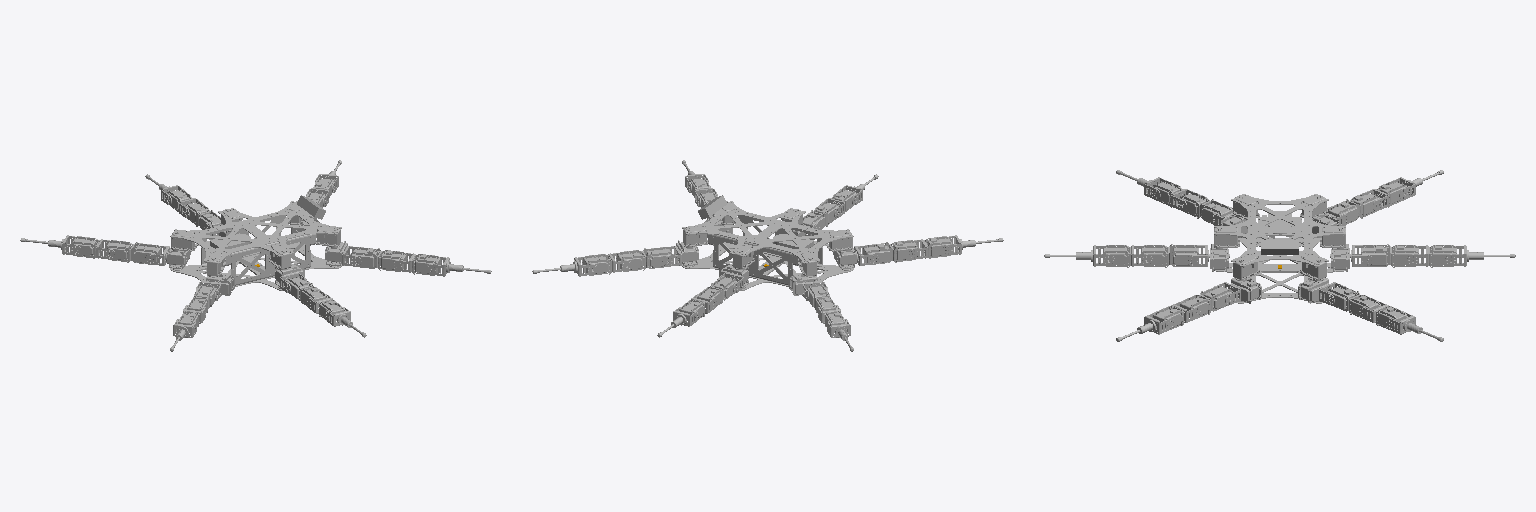
--- What the picture shows (computed from the rendered views, not written in the file) ---
3 views of the same robot in one strip: view 1: azimuth 30°, elevation 25°; view 2: azimuth 150°, elevation 25°; view 3: azimuth 270°, elevation 25° (orthographic).
Model weaver_new with 33 links and 32 joints (30 revolute, 2 fixed), rooted at base_link, posed every joint at zero.
Visible links, largest first — view 1: base_link, AR_femur, CL_femur, AR_tibia, CL_tibia, BR_femur, BL_femur; view 2: base_link, AL_femur, CR_femur, AL_tibia, CR_tibia, BL_femur, BR_femur; view 3: base_link, BL_femur, BR_femur, AL_femur, AR_femur, CR_femur, CL_femur, BL_tibia, BR_tibia, AL_tibia, AR_tibia, CL_tibia (+2 smaller).
Boxes of the visible links, box(x1,y1,x2,y2) form: base_link: box(170, 201, 341, 296); AR_femur: box(351, 247, 406, 271); CL_femur: box(105, 240, 160, 264); AR_tibia: box(392, 253, 440, 275); CL_tibia: box(71, 236, 114, 258); BR_femur: box(286, 276, 326, 309); BL_femur: box(186, 201, 220, 233); base_link: box(682, 201, 853, 296); AL_femur: box(617, 247, 672, 271); CR_femur: box(863, 240, 918, 264); AL_tibia: box(583, 253, 631, 275); CR_tibia: box(909, 236, 952, 258); BL_femur: box(697, 276, 736, 309); BR_femur: box(803, 201, 838, 233); base_link: box(1214, 194, 1345, 303); BL_femur: box(1361, 244, 1418, 267); BR_femur: box(1141, 244, 1198, 267); AL_femur: box(1327, 285, 1379, 318); AR_femur: box(1180, 285, 1231, 318); CR_femur: box(1181, 192, 1232, 223); CL_femur: box(1327, 192, 1379, 223); BL_tibia: box(1407, 245, 1456, 267); BR_tibia: box(1103, 245, 1152, 267); AL_tibia: box(1359, 301, 1406, 329); AR_tibia: box(1153, 301, 1200, 329); CL_tibia: box(1367, 180, 1406, 210).
Bounding box of the posed robot: 0.9285 × 1.09 × 0.15 m (x, y, z).
31 mesh visuals loaded from 31 distinct referenced files (31 binary STL).

robot.urdf — weaver_new:
<!-- Major URDF updates by Russell Buchanan August 2018 -->
<robot
  name="weaver_new">
  <link
    name="base_link">

    <inertial>
      <origin
        xyz="-0.00759148705427965 -6.561613834901E-05 0.06007694"
        rpy="0 0 0" />
      <mass
        value="1.24298717716044" />
      <inertia
        ixx="0.00898901463392721"
        ixy="7.80702196899809E-06"
        ixz="-0.00017493471498136"
        iyy="0.0162211037480001"
        iyz="-5.65946217649229E-07"
        izz="0.0216779813544911" />
    </inertial>

    <visual>
      <origin
        xyz="0 0 0.098"
        rpy="0 0 0" />
      <geometry>
        <mesh filename="base_link.STL" />
      </geometry>
      <material
        name="">
        <color
          rgba="0.752941176470588 0.752941176470588 0.752941176470588 1" />
      </material>
    </visual>

    <collision>
      <origin
        xyz="0 0 0.098"
        rpy="0 0 0" />
      <geometry>
        <mesh filename="base_link_col.STL" />
      </geometry>
    </collision>

  </link>
  
  <link
    name="AL_coxa">
    <inertial>
      <origin
        xyz="-0.0126327016759244 -0.0262896266838802 -2.94089483135196E-05"
        rpy="0 0 0" />
      <mass
        value="0.108250399243993" />
      <inertia
        ixx="3.85527087290252E-05"
        ixy="1.38474767894281E-06"
        ixz="3.95361976343372E-07"
        iyy="4.75576540653116E-05"
        iyz="5.66983924874739E-09"
        izz="5.27292465039966E-05" />
    </inertial>
    <visual>
      <origin
        xyz="0 0 0"
        rpy="0 0 0" />
      <geometry>
        <mesh filename="AL_coxa.STL" />
      </geometry>
      <material
        name="">
        <color
          rgba="0.752941176470588 0.752941176470588 0.752941176470588 1" />
      </material>
    </visual>
    <collision>
      <origin
        xyz="0 0 0"
        rpy="0 0 0" />
      <geometry>
        <mesh filename="AL_coxa_col.STL" />
      </geometry>
    </collision>
  </link>
  <joint
    name="AL_coxa_joint"
    type="revolute">
    <origin
      xyz="0.175000000000008 0.0899999999999982 0.0588"
      rpy="1.5707963267949 0 2.35619449019235" />
    <parent
      link="base_link" />
    <child
      link="AL_coxa" />
    <axis
      xyz="0 1 0" />
    <limit
      lower="-2"
      upper="2"
      effort="5"
      velocity="3.14159265359" />
  </joint>
  <link
    name="AL_coxat">
    <inertial>
      <origin
        xyz="0.00322456842068006 -0.042648725408693 1.84191836782865E-09"
        rpy="0 0 0" />
      <mass
        value="0.047339056341398" />
      <inertia
        ixx="1.74881813811441E-05"
        ixy="-2.95393241324098E-06"
        ixz="-2.81412896472616E-13"
        iyy="2.26979799760414E-05"
        iyz="5.17638655669823E-12"
        izz="3.33964012828006E-05" />
    </inertial>
    <visual>
      <origin
        xyz="0 0 0"
        rpy="0 0 0" />
      <geometry>
        <mesh filename="AL_coxat.STL" />
      </geometry>
      <material
        name="">
        <color
          rgba="0.752941176470588 0.752941176470588 0.752941176470588 1" />
      </material>
    </visual>
    <collision>
      <origin
        xyz="0 0 0"
        rpy="0 0 0" />
      <geometry>
        <mesh
          filename="AL_coxat_col.STL" />
      </geometry>
    </collision>
  </link>
  <joint
    name="AL_coxat_joint"
    type="revolute">
    <origin
      xyz="0 -0.0272999999999766 0"
      rpy="-1.5707963267949 9.99200722162641E-16 3.14159265358979" />
    <parent
      link="AL_coxa" />
    <child
      link="AL_coxat" />
    <axis
      xyz="0 -1 0" />
    <limit
      lower="-2"
      upper="2"
      effort="5"
      velocity="3.14159265359" />
  </joint>
  <link
    name="AL_femur">
    <inertial>
      <origin
        xyz="1.94931050229163E-06 -0.0502731422516415 -4.48898264527459E-05"
        rpy="0 0 0" />
      <mass
        value="0.161017193223397" />
      <inertia
        ixx="0.0002859947309078"
        ixy="4.72799271490016E-08"
        ixz="-2.44529621982891E-09"
        iyy="3.95520604139226E-05"
        iyz="1.19194994154251E-07"
        izz="0.000273544719570858" />
    </inertial>
    <visual>
      <origin
        xyz="0 0 0"
        rpy="0 0 0" />
      <geometry>
        <mesh filename="AL_femur.STL" />
      </geometry>
      <material
        name="">
        <color
          rgba="0.752941176470588 0.752941176470588 0.752941176470588 1" />
      </material>
    </visual>
    <collision>
      <origin
        xyz="0 0 0"
        rpy="0 0 0" />
      <geometry>
        <mesh
          filename="AL_femur_col.STL" />
      </geometry>
    </collision>
  </link>
  <joint
    name="AL_femur_joint"
    type="revolute">
    <origin
      xyz="0 -0.0619999999999947 0"
      rpy="0 1.5707963267949 0" />
    <parent
      link="AL_coxat" />
    <child
      link="AL_femur" />
    <axis
      xyz="0 0 1" />
    <limit
      lower="-2"
      upper="2"
      effort="5"
      velocity="3.14159265359" />
  </joint>
  <link
    name="AL_tibia">
    <inertial>
      <origin
        xyz="3.17882988839224E-05 0.0555617322770338 0.0024498946635602"
        rpy="0 0 0" />
      <mass
        value="0.0971761832774268" />
      <inertia
        ixx="0.000121187030444208"
        ixy="-4.31674791982839E-08"
        ixz="-5.07976803844401E-09"
        iyy="2.89704323167637E-05"
        iyz="-5.8763093230428E-06"
        izz="0.000107560337788206" />
    </inertial>
    <visual>
      <origin
        xyz="0 0 0"
        rpy="0 0 0" />
      <geometry>
        <mesh filename="AL_tibia.STL" />
      </geometry>
      <material
        name="">
        <color
          rgba="0.752941176470588 0.752941176470588 0.752941176470588 1" />
      </material>
    </visual>
    <collision>
      <origin
        xyz="0 0 0"
        rpy="0 0 0" />
      <geometry>
        <mesh
          filename="AL_tibia_col.STL" />
      </geometry>
    </collision>
  </link>
  <joint
    name="AL_tibia_joint"
    type="revolute">
    <origin
      xyz="0 -0.1065 0"
      rpy="-0.0193646475888996 1.48721407503726E-08 3.14159265330176" />
    <parent
      link="AL_femur" />
    <child
      link="AL_tibia" />
    <axis
      xyz="0 -0.0193634373547593 0.999812511070855" />
    <limit
      lower="-2"
      upper="2"
      effort="5"
      velocity="3.14159265359" />
  </joint>
  <link
    name="AL_tarsus">
    <inertial>
      <origin
        xyz="0.035640461688772 -7.22386515883411E-09 0.00321380889583989"
        rpy="0 0 0" />
      <mass
        value="0.0427912868695712" />
      <inertia
        ixx="1.2923299433486E-05"
        ixy="-3.44018556589819E-11"
        ixz="-4.9013553689971E-06"
        iyy="7.84978021986766E-05"
        iyz="1.22229395370361E-12"
        izz="6.93507036251619E-05" />
    </inertial>
    <visual>
      <origin
        xyz="0 0 0"
        rpy="0 0 0" />
      <geometry>
        <mesh filename="AL_tarsus.STL" />
      </geometry>
      <material
        name="">
        <color
          rgba="0.752941176470588 0.752941176470588 0.752941176470588 1" />
      </material>
    </visual>
    <collision>
      <origin
        xyz="0 0 0"
        rpy="0 0 0" />
      <geometry>
        <mesh
          filename="AL_tarsus_col.STL" />
      </geometry>
      <contact>
        <friction_anchor/>
        <stiffness value="30000.0"/>
        <damping value="1000.0"/>
        <spinning_friction value=".3"/>
        <lateral_friction value="1"/>
      </contact>
      <surface>
        <friction>
          <ode>
            <mu1>0.05</mu1>
            <mu2>0.05</mu2>
            <maxContacts>1</maxContacts>
          </ode>
        </friction>
      </surface>
    </collision>
  </link>
  <joint
    name="AL_tarsus_joint"
    type="revolute">
    <origin
      xyz="0 0.0879835009742352 0.00170398248721886"
      rpy="-1.48777190426124E-08 -0.0193646475888956 1.57079632708298" />
    <parent
      link="AL_tibia" />
    <child
      link="AL_tarsus" />
    <axis
      xyz="0 0 1" />
    <limit
      lower="-2"
      upper="2"
      effort="5"
      velocity="3.14159265359" />
  </joint>
  <link
    name="BL_coxa">
    <inertial>
      <origin
        xyz="-0.0126327017578083 -0.0262896266710039 -2.94089356557559E-05"
        rpy="0 0 0" />
      <mass
        value="0.108250398399237" />
      <inertia
        ixx="3.85527083728985E-05"
        ixy="1.3847476958506E-06"
        ixz="3.9536199208153E-07"
        iyy="4.75576536497135E-05"
        iyz="5.66976143339862E-09"
        izz="5.27292463013248E-05" />
    </inertial>
    <visual>
      <origin
        xyz="0 0 0"
        rpy="0 0 0" />
      <geometry>
        <mesh filename="BL_coxa.STL" />
      </geometry>
      <material
        name="">
        <color
          rgba="0.752941176470588 0.752941176470588 0.752941176470588 1" />
      </material>
    </visual>
    <collision>
      <origin
        xyz="0 0 0"
        rpy="0 0 0" />
      <geometry>
        <mesh filename="BL_coxa_col.STL" />
      </geometry>
    </collision>
  </link>
  <joint
    name="BL_coxa_joint"
    type="revolute">
    <origin
      xyz="0 0.140000000000005 0.0588"
      rpy="1.5707963267949 1.43144350060658E-31 3.14159265358979" />
    <parent
      link="base_link" />
    <child
      link="BL_coxa" />
    <axis
      xyz="0 1 0" />
    <limit
      lower="-2"
      upper="2"
      effort="5"
      velocity="3.14159265359" />
  </joint>
  <link
    name="BL_coxat">
    <inertial>
      <origin
        xyz="0.00322456843940139 -0.0199487254260735 1.84192165686436E-09"
        rpy="0 0 0" />
      <mass
        value="0.0473390563493884" />
      <inertia
        ixx="1.74881813551982E-05"
        ixy="-2.95393242832494E-06"
        ixz="-2.81439712590928E-13"
        iyy="2.26979800127984E-05"
        iyz="5.17636265748529E-12"
        izz="3.33964012935379E-05" />
    </inertial>
    <visual>
      <origin
        xyz="0 0 0"
        rpy="0 0 0" />
      <geometry>
        <mesh filename="BL_coxat.STL" />
      </geometry>
      <material
        name="">
        <color
          rgba="0.752941176470588 0.752941176470588 0.752941176470588 1" />
      </material>
    </visual>
    <collision>
      <origin
        xyz="0 0 0"
        rpy="0 0 0" />
      <geometry>
        <mesh
          filename="BL_coxat_col.STL" />
      </geometry>
    </collision>
  </link>
  <joint
    name="BL_coxat_joint"
    type="revolute">
    <origin
      xyz="0 -0.0272999999999767 0.0226999999999946"
      rpy="-1.5707963267949 -8.26948102009006E-16 -3.14159265358979" />
    <parent
      link="BL_coxa" />
    <child
      link="BL_coxat" />
    <axis
      xyz="0 -1 0" />
    <limit
      lower="-2"
      upper="2"
      effort="5"
      velocity="3.14159265359" />
  </joint>
  <link
    name="BL_femur">
    <inertial>
      <origin
        xyz="1.94930615164679E-06 -0.0502731423758347 -4.48897852852343E-05"
        rpy="0 0 0" />
      <mass
        value="0.16101719842294" />
      <inertia
        ixx="0.000285994732084457"
        ixy="4.72799663358013E-08"
        ixz="-2.44529702587561E-09"
        iyy="3.9552062637028E-05"
        iyz="1.19195252865889E-07"
        izz="0.000273544718966196" />
    </inertial>
    <visual>
      <origin
        xyz="0 0 0"
        rpy="0 0 0" />
      <geometry>
        <mesh filename="BL_femur.STL" />
      </geometry>
      <material
        name="">
        <color
          rgba="0.752941176470588 0.752941176470588 0.752941176470588 1" />
      </material>
    </visual>
    <collision>
      <origin
        xyz="0 0 0"
        rpy="0 0 0" />
      <geometry>
        <mesh
          filename="BL_femur_col.STL" />
      </geometry>
    </collision>
  </link>
  <joint
    name="BL_femur_joint"
    type="revolute">
    <origin
      xyz="0 -0.0393 0"
      rpy="0 1.5707963267949 0" />
    <parent
      link="BL_coxat" />
    <child
      link="BL_femur" />
    <axis
      xyz="0 0 1" />
    <limit
      lower="-2"
      upper="2"
      effort="5"
      velocity="3.14159265359" />
  </joint>
  <link
    name="BL_tibia">
    <inertial>
      <origin
        xyz="3.17883837628596E-05 0.055598753104094 0.00137356915021568"
        rpy="0 0 0" />
      <mass
        value="0.0971761860003987" />
      <inertia
        ixx="0.000121187031212763"
        ixy="-4.32578869698677E-08"
        ixz="-4.24273966447233E-09"
        iyy="2.92274287178076E-05"
        iyz="-7.39338834503258E-06"
        izz="0.00010730334234406" />
    </inertial>
    <visual>
      <origin
        xyz="0 0 0"
        rpy="0 0 0" />
      <geometry>
        <mesh filename="BL_tibia.STL" />
      </geometry>
      <material
        name="">
        <color
          rgba="0.752941176470588 0.752941176470588 0.752941176470588 1" />
      </material>
    </visual>
    <collision>
      <origin
        xyz="0 0 0"
        rpy="0 0 0" />
      <geometry>
        <mesh
          filename="BL_tibia_col.STL" />
      </geometry>
    </collision>
  </link>
  <joint
    name="BL_tibia_joint"
    type="revolute">
    <origin
      xyz="0 -0.1065 0"
      rpy="1.43185159909298E-15 0 3.14159265358979" />
    <parent
      link="BL_femur" />
    <child
      link="BL_tibia" />
    <axis
      xyz="0 0 1" />
    <limit
      lower="-2"
      upper="2"
      effort="5"
      velocity="3.14159265359" />
  </joint>
  <link
    name="BL_tarsus">
    <inertial>
      <origin
        xyz="0.0356404383354079 -7.59224401403191E-09 0.00321380983274337"
        rpy="0 0 0" />
      <mass
        value="0.0427912775199976" />
      <inertia
        ixx="1.29232990947271E-05"
        ixy="-3.61090772675561E-11"
        ixz="-4.9013511739472E-06"
        iyy="7.84976947348117E-05"
        iyz="1.27343670949195E-12"
        izz="6.93505962846741E-05" />
    </inertial>
    <visual>
      <origin
        xyz="0 0 0"
        rpy="0 0 0" />
      <geometry>
        <mesh filename="BL_tarsus.STL" />
      </geometry>
      <material
        name="">
        <color
          rgba="0.752941176470588 0.752941176470588 0.752941176470588 1" />
      </material>
    </visual>
    <collision>
      <origin
        xyz="0 0 0"
        rpy="0 0 0" />
      <geometry>
        <mesh
          filename="BL_tarsus_col.STL" />
      </geometry>
      <contact>
        <friction_anchor/>
        <stiffness value="30000.0"/>
        <damping value="1000.0"/>
        <spinning_friction value=".3"/>
        <lateral_friction value="1"/>
      </contact>
      <surface>
        <friction>
          <ode>
            <mu1>0.05</mu1>
            <mu2>0.05</mu2>
            <maxContacts>1</maxContacts>
          </ode>
        </friction>
      </surface>
    </collision>
  </link>
  <joint
    name="BL_tarsus_joint"
    type="revolute">
    <origin
      xyz="0 0.088 0"
      rpy="5.05319527541181E-16 2.28167636694143E-15 1.5707963267949" />
    <parent
      link="BL_tibia" />
    <child
      link="BL_tarsus" />
    <axis
      xyz="0 0 1" />
    <limit
      lower="-2"
      upper="2"
      effort="5"
      velocity="3.14159265359" />
  </joint>
  <link
    name="CL_coxa">
    <inertial>
      <origin
        xyz="-0.012632701668827 -0.0262896266841513 -2.94089624845451E-05"
        rpy="0 0 0" />
      <mass
        value="0.108250399319588" />
      <inertia
        ixx="3.85527087633549E-05"
        ixy="1.38474767831933E-06"
        ixz="3.95361957972071E-07"
        iyy="4.75576541011806E-05"
        iyz="5.66983973820856E-09"
        izz="5.27292465083536E-05" />
    </inertial>
    <visual>
      <origin
        xyz="0 0 0"
        rpy="0 0 0" />
      <geometry>
        <mesh filename="CL_coxa.STL" />
      </geometry>
      <material
        name="">
        <color
          rgba="0.752941176470588 0.752941176470588 0.752941176470588 1" />
      </material>
    </visual>
    <collision>
      <origin
        xyz="0 0 0"
        rpy="0 0 0" />
      <geometry>
        <mesh filename="CL_coxa_col.STL" />
      </geometry>
    </collision>
  </link>
  <joint
    name="CL_coxa_joint"
    type="revolute">
    <origin
      xyz="-0.174999999999998 0.0900000000000082 0.0588"
      rpy="1.5707963267949 0 -2.35619449019234" />
    <parent
      link="base_link" />
    <child
      link="CL_coxa" />
    <axis
      xyz="0 1 0" />
    <limit
      lower="-2"
      upper="2"
      effort="5"
      velocity="3.14159265359" />
  </joint>
  <link
    name="CL_coxat">
    <inertial>
      <origin
        xyz="0.00322456842092589 -0.042648725408981 1.84192464058874E-09"
        rpy="0 0 0" />
      <mass
        value="0.0473390563414069" />
      <inertia
        ixx="1.74881813811838E-05"
        ixy="-2.95393241336154E-06"
        ixz="-2.81390978510956E-13"
        iyy="2.26979799762259E-05"
        iyz="5.17635965133413E-12"
        izz="3.33964012830189E-05" />
    </inertial>
    <visual>
      <origin
        xyz="0 0 0"
        rpy="0 0 0" />
      <geometry>
        <mesh filename="CL_coxat.STL" />
      </geometry>
      <material
        name="">
        <color
          rgba="0.752941176470588 0.752941176470588 0.752941176470588 1" />
      </material>
    </visual>
    <collision>
      <origin
        xyz="0 0 0"
        rpy="0 0 0" />
      <geometry>
        <mesh
          filename="CL_coxat_col.STL" />
      </geometry>
    </collision>
  </link>
  <joint
    name="CL_coxat_joint"
    type="revolute">
    <origin
      xyz="0 -0.0272999999999766 0"
      rpy="-1.5707963267949 0 3.14159265358979" />
    <parent
      link="CL_coxa" />
    <child
      link="CL_coxat" />
    <axis
      xyz="0 -1 0" />
    <limit
      lower="-2"
      upper="2"
      effort="5"
      velocity="3.14159265359" />
  </joint>
  <link
    name="CL_femur">
    <inertial>
      <origin
        xyz="1.94931076638594E-06 -0.0502731422740177 -4.48898169302936E-05"
        rpy="0 0 0" />
      <mass
        value="0.161017193147997" />
      <inertia
        ixx="0.000285994730707631"
        ixy="4.72799288225188E-08"
        ixz="-2.44529729278806E-09"
        iyy="3.95520603797325E-05"
        iyz="1.19195070233865E-07"
        izz="0.000273544719402247" />
    </inertial>
    <visual>
      <origin
        xyz="0 0 0"
        rpy="0 0 0" />
      <geometry>
        <mesh filename="CL_femur.STL" />
      </geometry>
      <material
        name="">
        <color
          rgba="0.752941176470588 0.752941176470588 0.752941176470588 1" />
      </material>
    </visual>
    <collision>
      <origin
        xyz="0 0 0"
        rpy="0 0 0" />
      <geometry>
        <mesh
          filename="CL_femur_col.STL" />
      </geometry>
    </collision>
  </link>
  <joint
    name="CL_femur_joint"
    type="revolute">
    <origin
      xyz="0 -0.0619999999999946 0"
      rpy="0 1.5707963267949 0" />
    <parent
      link="CL_coxat" />
    <child
      link="CL_femur" />
    <axis
      xyz="0 0 1" />
    <limit
      lower="-2"
      upper="2"
      effort="5"
      velocity="3.14159265359" />
  </joint>
  <link
    name="CL_tibia">
    <inertial>
      <origin
        xyz="3.17883353263271E-05 0.00137356921260609 -0.0555987534494042"
        rpy="0 0 0" />
      <mass
        value="0.097176183277049" />
      <inertia
        ixx="0.000121187030442943"
        ixy="-4.24274050754199E-09"
        ixz="4.32578310134829E-08"
        iyy="0.00010730334264716"
        iyz="7.39338815943135E-06"
        izz="2.92274274562315E-05" />
    </inertial>
    <visual>
      <origin
        xyz="0 0 0"
        rpy="0 0 0" />
      <geometry>
        <mesh filename="CL_tibia.STL" />
      </geometry>
      <material
        name="">
        <color
          rgba="0.752941176470588 0.752941176470588 0.752941176470588 1" />
      </material>
    </visual>
    <collision>
      <origin
        xyz="0 0 0"
        rpy="0 0 0" />
      <geometry>
        <mesh
          filename="CL_tibia_col.STL" />
      </geometry>
    </collision>
  </link>
  <joint
    name="CL_tibia_joint"
    type="revolute">
    <origin
      xyz="0 -0.1065 0"
      rpy="1.5707963267949 0 3.14159265358979" />
    <parent
      link="CL_femur" />
    <child
      link="CL_tibia" />
    <axis
      xyz="0 1 0" />
    <limit
      lower="-2"
      upper="2"
      effort="5"
      velocity="3.14159265359" />
  </joint>
  <link
    name="CL_tarsus">
    <inertial>
      <origin
        xyz="0.0356404616886621 -7.2238463821872E-09 0.00321380889589828"
        rpy="0 0 0" />
      <mass
        value="0.0427912868696943" />
      <inertia
        ixx="1.292329943354E-05"
        ixy="-3.44018840496861E-11"
        ixz="-4.90135536909265E-06"
        iyy="7.84978021989049E-05"
        iyz="1.22231028705787E-12"
        izz="6.93507036253422E-05" />
    </inertial>
    <visual>
      <origin
        xyz="0 0 0"
        rpy="0 0 0" />
      <geometry>
        <mesh filename="CL_tarsus.STL" />
      </geometry>
      <material
        name="">
        <color
          rgba="0.752941176470588 0.752941176470588 0.752941176470588 1" />
      </material>
    </visual>
    <collision>
      <origin
        xyz="0 0 0"
        rpy="0 0 0" />
      <geometry>
        <mesh
          filename="CL_tarsus_col.STL" />
      </geometry>
      <contact>
        <friction_anchor/>
        <stiffness value="30000.0"/>
        <damping value="1000.0"/>
        <spinning_friction value=".3"/>
        <lateral_friction value="1"/>
      </contact>
      <surface>
        <friction>
          <ode>
            <mu1>0.05</mu1>
            <mu2>0.05</mu2>
            <maxContacts>1</maxContacts>
          </ode>
        </friction>
      </surface>
    </collision>
  </link>
  <joint
    name="CL_tarsus_joint"
    type="revolute">
    <origin
      xyz="0 0 -0.088"
      rpy="1.5707963267949 1.5707963267949 0" />
    <parent
      link="CL_tibia" />
    <child
      link="CL_tarsus" />
    <axis
      xyz="0 0 -1" />
    <limit
      lower="-2"
      upper="2"
      effort="5"
      velocity="3.14159265359" />
  </joint>
  <link
    name="CR_coxa">
    <inertial>
      <origin
        xyz="-0.0126327016688212 0.026283827670928 -2.94073512716597E-05"
        rpy="0 0 0" />
      <mass
        value="0.108250399319648" />
      <inertia
        ixx="3.85514366187558E-05"
        ixy="-1.38654335928304E-06"
        ixz="3.95364161212748E-07"
        iyy="4.7557654111446E-05"
        iyz="-7.81555794110925E-10"
        izz="5.2727974353502E-05" />
    </inertial>
    <visual>
      <origin
        xyz="0 0 0"
        rpy="0 0 0" />
      <geometry>
        <mesh filename="CR_coxa.STL" />
      </geometry>
      <material
        name="">
        <color
          rgba="0.752941176470588 0.752941176470588 0.752941176470588 1" />
      </material>
    </visual>
    <collision>
      <origin
        xyz="0 0 0"
        rpy="0 0 0" />
      <geometry>
        <mesh filename="CR_coxa_col.STL" />
      </geometry>
    </collision>
  </link>
  <joint
    name="CR_coxa_joint"
    type="revolute">
    <origin
      xyz="-0.175 -0.0899999999999999 0.0588"
      rpy="-1.5707963267949 0 2.35619449019234" />
    <parent
      link="base_link" />
    <child
      link="CR_coxa" />
    <axis
      xyz="0 -1 0" />
    <limit
      lower="-2"
      upper="2"
      effort="5"
      velocity="3.14159265359" />
  </joint>
  <link
    name="CR_coxat">
    <inertial>
      <origin
        xyz="0.00322456842098827 -0.0426487254089663 1.84189551111213E-09"
        rpy="0 0 0" />
      <mass
        value="0.04733905634204" />
      <inertia
        ixx="1.74881813814019E-05"
        ixy="-2.9539324135307E-06"
        ixz="-2.81448126330313E-13"
        iyy="2.26979799763797E-05"
        iyz="5.1764222413313E-12"
        izz="3.33964012833879E-05" />
    </inertial>
    <visual>
      <origin
        xyz="0 0 0"
        rpy="0 0 0" />
      <geometry>
        <mesh filename="CR_coxat.STL" />
      </geometry>
      <material
        name="">
        <color
          rgba="0.752941176470588 0.752941176470588 0.752941176470588 1" />
      </material>
    </visual>
    <collision>
      <origin
        xyz="0 0 0"
        rpy="0 0 0" />
      <geometry>
        <mesh
          filename="CR_coxat_col.STL" />
      </geometry>
    </collision>
  </link>
  <joint
    name="CR_coxat_joint"
    type="revolute">
    <origin
      xyz="0 0.0273 0"
      rpy="-1.5707963267949 -1.83186799063151E-15 0" />
    <parent
      link="CR_coxa" />
    <child
      link="CR_coxat" />
    <axis
      xyz="0 -1 0" />
    <limit
      lower="-2"
      upper="2"
      effort="5"
      velocity="3.14159265359" />
  </joint>
  <link
    name="CR_femur">
    <inertial>
      <origin
        xyz="1.94931050229163E-06 4.48898264525655E-05 -0.0502731422516415"
        rpy="0 0 0" />
      <mass
        value="0.161017193223397" />
      <inertia
        ixx="0.000285994730907801"
        ixy="2.44529621981792E-09"
        ixz="4.72799271490913E-08"
        iyy="0.000273544719570859"
        iyz="-1.19194994153884E-07"
        izz="3.95520604139226E-05" />
    </inertial>
    <visual>
      <origin
        xyz="0 0 0"
        rpy="0 0 0" />
      <geometry>
        <mesh filename="CR_femur.STL" />
      </geometry>
      <material
        name="">
        <color
          rgba="0.752941176470588 0.752941176470588 0.752941176470588 1" />
      </material>
    </visual>
    <collision>
      <origin
        xyz="0 0 0"
        rpy="0 0 0" />
      <geometry>
        <mesh
          filename="CR_femur_col.STL" />
      </geometry>
    </collision>
  </link>
  <joint
    name="CR_femur_joint"
    type="revolute">
    <origin
      xyz="0 -0.062 0"
      rpy="1.5707963267949 1.5707963267949 3.14159265359" />
    <parent
      link="CR_coxat" />
    <child
      link="CR_femur" />
    <axis
      xyz="0 -1 0" />
    <limit
      lower="-2"
      upper="2"
      effort="5"
      velocity="3.14159265359" />
  </joint>
  <link
    name="CR_tibia">
    <inertial>
      <origin
        xyz="3.17883353189857E-05 -0.0555987534496207 -0.00137356921251791"
        rpy="0 0 0" />
      <mass
        value="0.0971761832766621" />
      <inertia
        ixx="0.00012118703044161"
        ixy="4.3257830973829E-08"
        ixz="4.242740523455E-09"
        iyy="2.92274274560395E-05"
        iyz="-7.3933881589663E-06"
        izz="0.000107303342646014" />
    </inertial>
    <visual>
      <origin
        xyz="0 0 0"
        rpy="0 0 0" />
      <geometry>
        <mesh filename="CR_tibia.STL" />
      </geometry>
      <material
        name="">
        <color
          rgba="0.752941176470588 0.752941176470588 0.752941176470588 1" />
      </material>
    </visual>
    <collision>
      <origin
        xyz="0 0 0"
        rpy="0 0 0" />
      <geometry>
        <mesh
          filename="CR_tibia_col.STL" />
      </geometry>
    </collision>
  </link>
  <joint
    name="CR_tibia_joint"
    type="revolute">
    <origin
      xyz="0 0 -0.1065"
      rpy="1.5707963267949 0 3.14159265358979" />
    <parent
      link="CR_femur" />
    <child
      link="CR_tibia" />
    <axis
      xyz="0 0 -1" />
    <limit
      lower="-2"
      upper="2"
      effort="5"
      velocity="3.14159265359" />
  </joint>
  <link
    name="CR_tarsus">
    <inertial>
      <origin
        xyz="0.0356404502699696 -6.47393358366166E-09 0.00321380880663966"
        rpy="0 0 0" />
      <mass
        value="0.0427912820369785" />
      <inertia
        ixx="1.29232990839249E-05"
        ixy="-3.09570402052015E-11"
        ixz="-4.90135587688033E-06"
        iyy="7.84977530070108E-05"
        iyz="1.11916066474112E-12"
        izz="6.9350654358845E-05" />
    </inertial>
    <visual>
      <origin
        xyz="0 0 0"
        rpy="0 0 0" />
      <geometry>
        <mesh filename="CR_tarsus.STL" />
      </geometry>
      <material
        name="">
        <color
          rgba="0.752941176470588 0.752941176470588 0.752941176470588 1" />
      </material>
    </visual>
    <collision>
      <origin
        xyz="0 0 0"
        rpy="0 0 0" />
      <geometry>
        <mesh
          filename="CR_tarsus_col.STL" />
      </geometry>
      <contact>
        <friction_anchor/>
        <stiffness value="30000.0"/>
        <damping value="1000.0"/>
        <spinning_friction value=".3"/>
        <lateral_friction value="1"/>
      </contact>
      <surface>
        <friction>
          <ode>
            <mu1>0.05</mu1>
            <mu2>0.05</mu2>
            <maxContacts>1</maxContacts>
          </ode>
        </friction>
      </surface>
    </collision>
  </link>
  <joint
    name="CR_tarsus_joint"
    type="revolute">
    <origin
      xyz="0 -0.0879999999999999 0"
      rpy="3.14159265358979 -1.94289029309402E-15 -1.5707963267949" />
    <parent
      link="CR_tibia" />
    <child
      link="CR_tarsus" />
    <axis
      xyz="0 0 1" />
    <limit
      lower="-2"
      upper="2"
      effort="5"
      velocity="3.14159265359" />
  </joint>
  <link
    name="BR_coxa">
    <inertial>
      <origin
        xyz="-0.0126327017578069 0.0262838276668582 -2.9407324436459E-05"
        rpy="0 0 0" />
      <mass
        value="0.108250398399237" />
      <inertia
        ixx="3.85514362302588E-05"
        ixy="-1.38654336124219E-06"
        ixz="3.95364195331059E-07"
        iyy="4.75576536599566E-05"
        iyz="-7.81628237663384E-10"
        izz="5.27279741484064E-05" />
    </inertial>
    <visual>
      <origin
        xyz="0 0 0"
        rpy="0 0 0" />
      <geometry>
        <mesh filename="BR_coxa.STL" />
      </geometry>
      <material
        name="">
        <color
          rgba="0.752941176470588 0.752941176470588 0.752941176470588 1" />
      </material>
    </visual>
    <collision>
      <origin
        xyz="0 0 0"
        rpy="0 0 0" />
      <geometry>
        <mesh filename="BR_coxa_col.STL" />
      </geometry>
    </collision>
  </link>
  <joint
    name="BR_coxa_joint"
    type="revolute">
    <origin
      xyz="0 -0.14 0.0588"
      rpy="-1.5707963267949 -3.74915180455534E-33 3.14159265358979" />
    <parent
      link="base_link" />
    <child
      link="BR_coxa" />
    <axis
      xyz="0 -1 0" />
    <limit
      lower="-2"
      upper="2"
      effort="5"
      velocity="3.14159265359" />
  </joint>
  <link
    name="BR_coxat">
    <inertial>
      <origin
        xyz="0.00322456843926445 -0.0199487254258844 1.84193138519362E-09"
        rpy="0 0 0" />
      <mass
        value="0.0473390563494482" />
      <inertia
        ixx="1.74881813551548E-05"
        ixy="-2.95393242824373E-06"
        ixz="-2.8143185015876E-13"
        iyy="2.26979800127065E-05"
        iyz="5.17635598291648E-12"
        izz="3.33964012934035E-05" />
    </inertial>
    <visual>
      <origin
        xyz="0 0 0"
        rpy="0 0 0" />
      <geometry>
        <mesh filename="BR_coxat.STL" />
      </geometry>
      <material
        name="">
        <color
          rgba="0.752941176470588 0.752941176470588 0.752941176470588 1" />
      </material>
    </visual>
    <collision>
      <origin
        xyz="0 0 0"
        rpy="0 0 0" />
      <geometry>
        <mesh
          filename="BR_coxat_col.STL" />
      </geometry>
    </collision>
  </link>
  <joint
    name="BR_coxat_joint"
    type="revolute">
    <origin
      xyz="0 0.0273 0.0227"
      rpy="-1.5707963267949 -6.12303176911188E-17 3.74915180455534E-33" />
    <parent
      link="BR_coxa" />
    <child
      link="BR_coxat" />
    <axis
      xyz="0 -1 0" />
    <limit
      lower="-2"
      upper="2"
      effort="5"
      velocity="3.14159265359" />
  </joint>
  <link
    name="BR_femur">
    <inertial>
      <origin
        xyz="1.94930641257696E-06 0.0502731423988428 4.4889775435684E-05"
        rpy="0 0 0" />
      <mass
        value="0.161017198344016" />
      <inertia
        ixx="0.000285994731881859"
        ixy="-4.72799679134353E-08"
        ixz="2.44529809753879E-09"
        iyy="3.9552062601809E-05"
        iyz="1.19195330567474E-07"
        izz="0.000273544718796064" />
    </inertial>
    <visual>
      <origin
        xyz="0 0 0"
        rpy="0 0 0" />
      <geometry>
        <mesh filename="BR_femur.STL" />
      </geometry>
      <material
        name="">
        <color
          rgba="0.752941176470588 0.752941176470588 0.752941176470588 1" />
      </material>
    </visual>
    <collision>
      <origin
        xyz="0 0 0"
        rpy="0 0 0" />
      <geometry>
        <mesh
          filename="BR_femur_col.STL" />
      </geometry>
    </collision>
  </link>
  <joint
    name="BR_femur_joint"
    type="revolute">
    <origin
      xyz="0 -0.0393 0"
      rpy="3.14159265358979 1.5707963267949 0" />
    <parent
      link="BR_coxat" />
    <child
      link="BR_femur" />
    <axis
      xyz="0 0 -1" />
    <limit
      lower="-2"
      upper="2"
      effort="5"
      velocity="3.14159265359" />
  </joint>
  <link
    name="BR_tibia">
    <inertial>
      <origin
        xyz="3.17883837551991E-05 -0.055598753103953 -0.00137356915026763"
        rpy="0 0 0" />
      <mass
        value="0.0971761860006536" />
      <inertia
        ixx="0.000121187031213631"
        ixy="4.32578869295509E-08"
        ixz="4.24273968119749E-09"
        iyy="2.92274287179364E-05"
        iyz="-7.3933883453387E-06"
        izz="0.000107303342344804" />
    </inertial>
    <visual>
      <origin
        xyz="0 0 0"
        rpy="0 0 0" />
      <geometry>
        <mesh filename="BR_tibia.STL" />
      </geometry>
      <material
        name="">
        <color
          rgba="0.752941176470588 0.752941176470588 0.752941176470588 1" />
      </material>
    </visual>
    <collision>
      <origin
        xyz="0 0 0"
        rpy="0 0 0" />
      <geometry>
        <mesh
          filename="BR_tibia_col.STL" />
      </geometry>
    </collision>
  </link>
  <joint
    name="BR_tibia_joint"
    type="revolute">
    <origin
      xyz="0 0.1065 0"
      rpy="7.65717784317887E-16 0 3.14159265358979" />
    <parent
      link="BR_femur" />
    <child
      link="BR_tibia" />
    <axis
      xyz="0 0 -1" />
    <limit
      lower="-2"
      upper="2"
      effort="5"
      velocity="3.14159265359" />
  </joint>
  <link
    name="BR_tarsus">
    <inertial>
      <origin
        xyz="0.0356418098307435 -3.76651621558644E-08 0.00321378795866891"
        rpy="0 0 0" />
      <mass
        value="0.0427918103113372" />
      <inertia
        ixx="1.29233106804525E-05"
        ixy="-1.78601081153684E-10"
        ixz="-4.9014538359243E-06"
        iyy="7.85041660169227E-05"
        iyz="5.4092134130153E-12"
        izz="6.93570670528488E-05" />
    </inertial>
    <visual>
      <origin
        xyz="0 0 0"
        rpy="0 0 0" />
      <geometry>
        <mesh filename="BR_tarsus.STL" />
      </geometry>
      <material
        name="">
        <color
          rgba="0.752941176470588 0.752941176470588 0.752941176470588 1" />
      </material>
    </visual>
    <collision>
      <origin
        xyz="0 0 0"
        rpy="0 0 0" />
      <geometry>
        <mesh
          filename="BR_tarsus_col.STL" />
      </geometry>
      <contact>
        <friction_anchor/>
        <stiffness value="30000.0"/>
        <damping value="1000.0"/>
        <spinning_friction value=".3"/>
        <lateral_friction value="1"/>
      </contact>
      <surface>
        <friction>
          <ode>
            <mu1>0.05</mu1>
            <mu2>0.05</mu2>
            <maxContacts>1</maxContacts>
          </ode>
        </friction>
      </surface>
    </collision>
  </link>
  <joint
    name="BR_tarsus_joint"
    type="revolute">
    <origin
      xyz="0 -0.088 0"
      rpy="-3.14159265358979 -8.26948102009006E-16 -1.5707963267949" />
    <parent
      link="BR_tibia" />
    <child
      link="BR_tarsus" />
    <axis
      xyz="0 0 1" />
    <limit
      lower="-2"
      upper="2"
      effort="5"
      velocity="3.14159265359" />
  </joint>
  <link
    name="AR_coxa">
    <inertial>
      <origin
        xyz="-0.0126327016688656 0.0262838276709944 -2.94073512709381E-05"
        rpy="0 0 0" />
      <mass
        value="0.108250399319334" />
      <inertia
        ixx="3.85514366185909E-05"
        ixy="-1.38654335917332E-06"
        ixz="3.9536416121336E-07"
        iyy="4.75576541113712E-05"
        iyz="-7.8155579593374E-10"
        izz="5.27279743532636E-05" />
    </inertial>
    <visual>
      <origin
        xyz="0 0 0"
        rpy="0 0 0" />
      <geometry>
        <mesh filename="AR_coxa.STL" />
      </geometry>
      <material
        name="">
        <color
          rgba="0.752941176470588 0.752941176470588 0.752941176470588 1" />
      </material>
    </visual>
    <collision>
      <origin
        xyz="0 0 0"
        rpy="0 0 0" />
      <geometry>
        <mesh filename="AR_coxa_col.STL" />
      </geometry>
    </collision>
  </link>
  <joint
    name="AR_coxa_joint"
    type="revolute">
    <origin
      xyz="0.175 -0.0900000000000001 0.0588"
      rpy="-1.5707963267949 0 -2.35619449019234" />
    <parent
      link="base_link" />
    <child
      link="AR_coxa" />
    <axis
      xyz="0 -1 0" />
    <limit
      lower="-2"
      upper="2"
      effort="5"
      velocity="3.14159265359" />
  </joint>
  <link
    name="AR_coxat">
    <inertial>
      <origin
        xyz="0.00322456842092667 -0.0426487254088967 1.84192269769845E-09"
        rpy="0 0 0" />
      <mass
        value="0.047339056341662" />
      <inertia
        ixx="1.74881813812544E-05"
        ixy="-2.95393241336118E-06"
        ixz="-2.81391006638428E-13"
        iyy="2.26979799762262E-05"
        iyz="5.17635812842465E-12"
        izz="3.33964012830897E-05" />
    </inertial>
    <visual>
      <origin
        xyz="0 0 0"
        rpy="0 0 0" />
      <geometry>
        <mesh filename="AR_coxat.STL" />
      </geometry>
      <material
        name="">
        <color
          rgba="0.752941176470588 0.752941176470588 0.752941176470588 1" />
      </material>
    </visual>
    <collision>
      <origin
        xyz="0 0 0"
        rpy="0 0 0" />
      <geometry>
        <mesh
          filename="AR_coxat_col.STL" />
      </geometry>
    </collision>
  </link>
  <joint
    name="AR_coxat_joint"
    type="revolute">
    <origin
      xyz="0 0.0273 0"
      rpy="-1.5707963267949 0 0" />
    <parent
      link="AR_coxa" />
    <child
      link="AR_coxat" />
    <axis
      xyz="0 -1 0" />
    <limit
      lower="-2"
      upper="2"
      effort="5"
      velocity="3.14159265359" />
  </joint>
  <link
    name="AR_femur">
    <inertial>
      <origin
        xyz="1.94931076637206E-06 -4.4889816930252E-05 0.0502731422740177"
        rpy="0 0 0" />
      <mass
        value="0.161017193147997" />
      <inertia
        ixx="0.00028599473070763"
        ixy="-2.44529729275451E-09"
        ixz="-4.7279928822461E-08"
        iyy="0.000273544719402246"
        iyz="-1.19195070234166E-07"
        izz="3.95520603797324E-05" />
    </inertial>
    <visual>
      <origin
        xyz="0 0 0"
        rpy="0 0 0" />
      <geometry>
        <mesh filename="AR_femur.STL" />
      </geometry>
      <material
        name="">
        <color
          rgba="0.752941176470588 0.752941176470588 0.752941176470588 1" />
      </material>
    </visual>
    <collision>
      <origin
        xyz="0 0 0"
        rpy="0 0 0" />
      <geometry>
        <mesh
          filename="AR_femur_col.STL" />
      </geometry>
    </collision>
  </link>
  <joint
    name="AR_femur_joint"
    type="revolute">
    <origin
      xyz="0 -0.062 0"
      rpy="1.5707963267949 1.5707963267949 0" />
    <parent
      link="AR_coxat" />
    <child
      link="AR_femur" />
    <axis
      xyz="0 1 0" />
    <limit
      lower="-2"
      upper="2"
      effort="5"
      velocity="3.14159265359" />
  </joint>
  <link
    name="AR_tibia">
    <inertial>
      <origin
        xyz="3.17883353196241E-05 -0.0555987534492564 -0.00137356921266399"
        rpy="0 0 0" />
      <mass
        value="0.0971761832773038" />
      <inertia
        ixx="0.000121187030443879"
        ixy="4.32578309767166E-08"
        ixz="4.24274052207579E-09"
        iyy="2.92274274563597E-05"
        iyz="-7.39338815975043E-06"
        izz="0.000107303342647974" />
    </inertial>
    <visual>
      <origin
        xyz="0 0 0"
        rpy="0 0 0" />
      <geometry>
        <mesh filename="AR_tibia.STL" />
      </geometry>
      <material
        name="">
        <color
          rgba="0.752941176470588 0.752941176470588 0.752941176470588 1" />
      </material>
    </visual>
    <collision>
      <origin
        xyz="0 0 0"
        rpy="0 0 0" />
      <geometry>
        <mesh
          filename="AR_tibia_col.STL" />
      </geometry>
    </collision>
  </link>
  <joint
    name="AR_tibia_joint"
    type="revolute">
    <origin
      xyz="0 0 0.1065"
      rpy="-1.57079632679489 0 3.14159265358979" />
    <parent
      link="AR_femur" />
    <child
      link="AR_tibia" />
    <axis
      xyz="0 0 -1" />
    <limit
      lower="-2"
      upper="2"
      effort="5"
      velocity="3.14159265359" />
  </joint>
  <link
    name="AR_tarsus">
    <inertial>
      <origin
        xyz="0.0356404616887719 -7.22386514495632E-09 0.00321380889583958"
        rpy="0 0 0" />
      <mass
        value="0.042791286869571" />
      <inertia
        ixx="1.2923299433486E-05"
        ixy="-3.4401855647501E-11"
        ixz="-4.90135536899739E-06"
        iyy="7.84978021986767E-05"
        iyz="1.22229395810001E-12"
        izz="6.9350703625162E-05" />
    </inertial>
    <visual>
      <origin
        xyz="0 0 0"
        rpy="0 0 0" />
      <geometry>
        <mesh filename="AR_tarsus.STL" />
      </geometry>
      <material
        name="">
        <color
          rgba="0.752941176470588 0.752941176470588 0.752941176470588 1" />
      </material>
    </visual>
    <collision>
      <origin
        xyz="0 0 0"
        rpy="0 0 0" />
      <geometry>
        <mesh
          filename="AR_tarsus_col.STL" />
      </geometry>
      <contact>
        <friction_anchor/>
        <stiffness value="30000.0"/>
        <damping value="1000.0"/>
        <spinning_friction value=".3"/>
        <lateral_friction value="1"/>
      </contact>
      <surface>
        <friction>
          <ode>
            <mu1>0.05</mu1>
            <mu2>0.05</mu2>
            <maxContacts>1</maxContacts>
          </ode>
        </friction>
      </surface>
    </collision>
  </link>
  <joint
    name="AR_tarsus_joint"
    type="revolute">
    <origin
      xyz="0 -0.0880000000000001 0"
      rpy="3.14159265358979 -1.94289029309402E-15 -1.5707963267949" />
    <parent
      link="AR_tibia" />
    <child
      link="AR_tarsus" />
    <axis
      xyz="0 0 1" />
    <limit
      lower="-2"
      upper="2"
      effort="5"
      velocity="3.14159265359" />
  </joint>




<!-- **********************Realsense Camera***************************** -->
  <joint name="camera_joint" type="fixed">
    <origin xyz="0.16 0 0.128" rpy="0 0.5 0"/>
    <parent link="base_link"/>
    <child link="camera_link"/>
  </joint>


  <link name="camera_link">
    <collision>
      <origin xyz="0 0 0" rpy="0 0 0"/>
      <geometry>
    <box size="0.025 0.09 0.025"/>
      </geometry>
    </collision>

    <visual>
      <origin xyz="0 0 0" rpy="0 0 0"/>
      <geometry>
    <box size="0.025 0.09 0.025"/>
      </geometry>
            <material name="red"/>
    </visual>

    <inertial>
      <mass value="1e-5" />
      <origin xyz="0 0 0" rpy="0 0 0"/>
      <inertia ixx="1e-6" ixy="0" ixz="0" iyy="1e-6" iyz="0" izz="1e-6" />
    </inertial>
  </link>



<gazebo reference="camera_link">
      <sensor name="camera" type="depth">
        <update_rate>20</update_rate>
        <camera>
          <horizontal_fov>1.59174</horizontal_fov>
          <image>
            <width>848</width>
            <height>480</height>
            <format>R8G8B8</format>
          </image>
          <clip>
            <near>0.2</near>
            <far>3</far>
          </clip>

          <noise>
            <type>gaussian</type>
            <mean>0.0</mean>
            <stddev>0.007</stddev>
          </noise>

        </camera>
        <plugin name="camera_plugin" filename="libgazebo_ros_openni_kinect.so">
          <baseline>0.2</baseline>
          <alwaysOn>true</alwaysOn>
          <!-- Keep this zero, update_rate in the parent <sensor> tag
            will control the frame rate. -->
          <updateRate>0.0</updateRate>
          <cameraName>camera_ir</cameraName>
          <imageTopicName>/camera_down/depth/color/image_raw</imageTopicName>
          <cameraInfoTopicName>/camera_down/depth/color/camera_info</cameraInfoTopicName>
          <depthImageTopicName>/camera_down/depth/color/image_rect_raw</depthImageTopicName>
          <depthImageInfoTopicName>/camera_down/depth/color/camera_info</depthImageInfoTopicName>
          <pointCloudTopicName>/camera_down/depth/color/points</pointCloudTopicName>
          <frameName>camera_down_optical_frame</frameName>
          <pointCloudCutoff>0.05</pointCloudCutoff>
          <distortionK1>0.0012</distortionK1>
          <distortionK2>0.0019</distortionK2>
          <distortionK3>0.4</distortionK3>
          <distortionT1>0</distortionT1>
          <distortionT2>1</distortionT2>
          <CxPrime>0</CxPrime>
          <Cx>0</Cx>
          <Cy>0</Cy>
          <focalLength>0</focalLength>
          <hackBaseline>0</hackBaseline>
        </plugin>
      </sensor>
</gazebo>




<!-- **********************Odometry Controller***************************** -->
    <gazebo>
      
      <plugin name="gazebo_ros_control" filename="libgazebo_ros_control.so">
        <robotNamespace>/syropod</robotNamespace>
      </plugin>

      <plugin name="p3d_base_controller" filename="libgazebo_ros_p3d.so">
            <alwaysOn>true</alwaysOn>
            <updateRate>20.0</updateRate>
            <bodyName>base_link</bodyName>
            <topicName>/gazebo/Odometry</topicName>
            <gaussianNoise>0.01</gaussianNoise>
            <frameName>map</frameName>
            <xyzOffsets>0 0 0</xyzOffsets>
            <rpyOffsets>0 0 0</rpyOffsets>
      </plugin>

    </gazebo>



<!-- ******************************************************************** -->

  <transmission name="AL_coxa_tran">
    <type>transmission_interface/SimpleTransmission</type>
      <joint name="AL_coxa_joint">
        <hardwareInterface>hardware_interface/EffortJointInterface</hardwareInterface>
      </joint>
      <actuator name="AL_coxa_motor">
        <hardwareInterface>hardware_interface/EffortJointInterface</hardwareInterface>
            <mechanicalReduction>1</mechanicalReduction>
      </actuator>
  </transmission>
    <transmission name="AL_coxat_tran">
    <type>transmission_interface/SimpleTransmission</type>
      <joint name="AL_coxat_joint">
        <hardwareInterface>hardware_interface/EffortJointInterface</hardwareInterface>
      </joint>
      <actuator name="AL_coxat_motor">
        <hardwareInterface>hardware_interface/EffortJointInterface</hardwareInterface>
            <mechanicalReduction>1</mechanicalReduction>
      </actuator>
  </transmission>
  <transmission name="AL_femur_tran">
    <type>transmission_interface/SimpleTransmission</type>
      <joint name="AL_femur_joint">
        <hardwareInterface>hardware_interface/EffortJointInterface</hardwareInterface>
      </joint>
      <actuator name="AL_femur_motor">
        <hardwareInterface>hardware_interface/EffortJointInterface</hardwareInterface>
            <mechanicalReduction>1</mechanicalReduction>
      </actuator>
  </transmission>
  <transmission name="AL_tibia_tran">
    <type>transmission_interface/SimpleTransmission</type>
      <joint name="AL_tibia_joint">
        <hardwareInterface>hardware_interface/EffortJointInterface</hardwareInterface>
      </joint>
      <actuator name="AL_tibia_motor">
        <hardwareInterface>hardware_interface/EffortJointInterface</hardwareInterface>
            <mechanicalReduction>1</mechanicalReduction>
      </actuator>
  </transmission>
  <transmission name="AL_tarsus_tran">
    <type>transmission_interface/SimpleTransmission</type>
      <joint name="AL_tarsus_joint">
        <hardwareInterface>hardware_interface/EffortJointInterface</hardwareInterface>
      </joint>
      <actuator name="AL_tarsus_motor">
        <hardwareInterface>hardware_interface/EffortJointInterface</hardwareInterface>
            <mechanicalReduction>1</mechanicalReduction>
      </actuator>
  </transmission>

  <transmission name="AR_coxa_tran">
    <type>transmission_interface/SimpleTransmission</type>
      <joint name="AR_coxa_joint">
        <hardwareInterface>hardware_interface/EffortJointInterface</hardwareInterface>
      </joint>
      <actuator name="AR_coxa_motor">
        <hardwareInterface>hardware_interface/EffortJointInterface</hardwareInterface>
            <mechanicalReduction>1</mechanicalReduction>
      </actuator>
  </transmission>
    <transmission name="AR_coxat_tran">
    <type>transmission_interface/SimpleTransmission</type>
      <joint name="AR_coxat_joint">
        <hardwareInterface>hardware_interface/EffortJointInterface</hardwareInterface>
      </joint>
      <actuator name="AR_coxat_motor">
        <hardwareInterface>hardware_interface/EffortJointInterface</hardwareInterface>
            <mechanicalReduction>1</mechanicalReduction>
      </actuator>
  </transmission>
  <transmission name="AR_femur_tran">
    <type>transmission_interface/SimpleTransmission</type>
      <joint name="AR_femur_joint">
        <hardwareInterface>hardware_interface/EffortJointInterface</hardwareInterface>
      </joint>
      <actuator name="AR_femur_motor">
        <hardwareInterface>hardware_interface/EffortJointInterface</hardwareInterface>
            <mechanicalReduction>1</mechanicalReduction>
      </actuator>
  </transmission>
  <transmission name="AR_tibia_tran">
    <type>transmission_interface/SimpleTransmission</type>
      <joint name="AR_tibia_joint">
        <hardwareInterface>hardware_interface/EffortJointInterface</hardwareInterface>
      </joint>
      <actuator name="AR_tibia_motor">
        <hardwareInterface>hardware_interface/EffortJointInterface</hardwareInterface>
            <mechanicalReduction>1</mechanicalReduction>
      </actuator>
  </transmission>
  <transmission name="AR_tarsus_tran">
    <type>transmission_interface/SimpleTransmission</type>
      <joint name="AR_tarsus_joint">
        <hardwareInterface>hardware_interface/EffortJointInterface</hardwareInterface>
      </joint>
      <actuator name="AR_tarsus_motor">
        <hardwareInterface>hardware_interface/EffortJointInterface</hardwareInterface>
            <mechanicalReduction>1</mechanicalReduction>
      </actuator>
  </transmission>

  <transmission name="BL_coxa_tran">
    <type>transmission_interface/SimpleTransmission</type>
      <joint name="BL_coxa_joint">
        <hardwareInterface>hardware_interface/EffortJointInterface</hardwareInterface>
      </joint>
      <actuator name="BL_coxa_motor">
        <hardwareInterface>hardware_interface/EffortJointInterface</hardwareInterface>
            <mechanicalReduction>1</mechanicalReduction>
      </actuator>
  </transmission>
    <transmission name="BL_coxat_tran">
    <type>transmission_interface/SimpleTransmission</type>
      <joint name="BL_coxat_joint">
        <hardwareInterface>hardware_interface/EffortJointInterface</hardwareInterface>
      </joint>
      <actuator name="BL_coxat_motor">
        <hardwareInterface>hardware_interface/EffortJointInterface</hardwareInterface>
            <mechanicalReduction>1</mechanicalReduction>
      </actuator>
  </transmission>
  <transmission name="BL_femur_tran">
    <type>transmission_interface/SimpleTransmission</type>
      <joint name="BL_femur_joint">
        <hardwareInterface>hardware_interface/EffortJointInterface</hardwareInterface>
      </joint>
      <actuator name="BL_femur_motor">
        <hardwareInterface>hardware_interface/EffortJointInterface</hardwareInterface>
            <mechanicalReduction>1</mechanicalReduction>
      </actuator>
  </transmission>
  <transmission name="BL_tibia_tran">
    <type>transmission_interface/SimpleTransmission</type>
      <joint name="BL_tibia_joint">
        <hardwareInterface>hardware_interface/EffortJointInterface</hardwareInterface>
      </joint>
      <actuator name="BL_tibia_motor">
        <hardwareInterface>hardware_interface/EffortJointInterface</hardwareInterface>
            <mechanicalReduction>1</mechanicalReduction>
      </actuator>
  </transmission>
  <transmission name="BL_tarsus_tran">
    <type>transmission_interface/SimpleTransmission</type>
      <joint name="BL_tarsus_joint">
        <hardwareInterface>hardware_interface/EffortJointInterface</hardwareInterface>
      </joint>
      <actuator name="BL_tarsus_motor">
        <hardwareInterface>hardware_interface/EffortJointInterface</hardwareInterface>
            <mechanicalReduction>1</mechanicalReduction>
      </actuator>
  </transmission>

  <transmission name="BR_coxa_tran">
    <type>transmission_interface/SimpleTransmission</type>
      <joint name="BR_coxa_joint">
        <hardwareInterface>hardware_interface/EffortJointInterface</hardwareInterface>
      </joint>
      <actuator name="BR_coxa_motor">
        <hardwareInterface>hardware_interface/EffortJointInterface</hardwareInterface>
            <mechanicalReduction>1</mechanicalReduction>
      </actuator>
  </transmission>
    <transmission name="BR_coxat_tran">
    <type>transmission_interface/SimpleTransmission</type>
      <joint name="BR_coxat_joint">
        <hardwareInterface>hardware_interface/EffortJointInterface</hardwareInterface>
      </joint>
      <actuator name="BR_coxat_motor">
        <hardwareInterface>hardware_interface/EffortJointInterface</hardwareInterface>
            <mechanicalReduction>1</mechanicalReduction>
      </actuator>
  </transmission>
  <transmission name="BR_femur_tran">
    <type>transmission_interface/SimpleTransmission</type>
      <joint name="BR_femur_joint">
        <hardwareInterface>hardware_interface/EffortJointInterface</hardwareInterface>
      </joint>
      <actuator name="BR_femur_motor">
        <hardwareInterface>hardware_interface/EffortJointInterface</hardwareInterface>
            <mechanicalReduction>1</mechanicalReduction>
      </actuator>
  </transmission>
  <transmission name="BR_tibia_tran">
    <type>transmission_interface/SimpleTransmission</type>
      <joint name="BR_tibia_joint">
        <hardwareInterface>hardware_interface/EffortJointInterface</hardwareInterface>
      </joint>
      <actuator name="BR_tibia_motor">
        <hardwareInterface>hardware_interface/EffortJointInterface</hardwareInterface>
            <mechanicalReduction>1</mechanicalReduction>
      </actuator>
  </transmission>
  <transmission name="BR_tarsus_tran">
    <type>transmission_interface/SimpleTransmission</type>
      <joint name="BR_tarsus_joint">
        <hardwareInterface>hardware_interface/EffortJointInterface</hardwareInterface>
      </joint>
      <actuator name="BR_tarsus_motor">
        <hardwareInterface>hardware_interface/EffortJointInterface</hardwareInterface>
            <mechanicalReduction>1</mechanicalReduction>
      </actuator>
  </transmission>

  <transmission name="CL_coxa_tran">
    <type>transmission_interface/SimpleTransmission</type>
      <joint name="CL_coxa_joint">
        <hardwareInterface>hardware_interface/EffortJointInterface</hardwareInterface>
      </joint>
      <actuator name="CL_coxa_motor">
        <hardwareInterface>hardware_interface/EffortJointInterface</hardwareInterface>
            <mechanicalReduction>1</mechanicalReduction>
      </actuator>
  </transmission>
    <transmission name="CL_coxat_tran">
    <type>transmission_interface/SimpleTransmission</type>
      <joint name="CL_coxat_joint">
        <hardwareInterface>hardware_interface/EffortJointInterface</hardwareInterface>
      </joint>
      <actuator name="CL_coxat_motor">
        <hardwareInterface>hardware_interface/EffortJointInterface</hardwareInterface>
            <mechanicalReduction>1</mechanicalReduction>
      </actuator>
  </transmission>
  <transmission name="CL_femur_tran">
    <type>transmission_interface/SimpleTransmission</type>
      <joint name="CL_femur_joint">
        <hardwareInterface>hardware_interface/EffortJointInterface</hardwareInterface>
      </joint>
      <actuator name="CL_femur_motor">
        <hardwareInterface>hardware_interface/EffortJointInterface</hardwareInterface>
            <mechanicalReduction>1</mechanicalReduction>
      </actuator>
  </transmission>
  <transmission name="CL_tibia_tran">
    <type>transmission_interface/SimpleTransmission</type>
      <joint name="CL_tibia_joint">
        <hardwareInterface>hardware_interface/EffortJointInterface</hardwareInterface>
      </joint>
      <actuator name="CL_tibia_motor">
        <hardwareInterface>hardware_interface/EffortJointInterface</hardwareInterface>
            <mechanicalReduction>1</mechanicalReduction>
      </actuator>
  </transmission>
  <transmission name="CL_tarsus_tran">
    <type>transmission_interface/SimpleTransmission</type>
      <joint name="CL_tarsus_joint">
        <hardwareInterface>hardware_interface/EffortJointInterface</hardwareInterface>
      </joint>
      <actuator name="CL_tarsus_motor">
        <hardwareInterface>hardware_interface/EffortJointInterface</hardwareInterface>
            <mechanicalReduction>1</mechanicalReduction>
      </actuator>
  </transmission>

  <transmission name="CR_coxa_tran">
    <type>transmission_interface/SimpleTransmission</type>
      <joint name="CR_coxa_joint">
        <hardwareInterface>hardware_interface/EffortJointInterface</hardwareInterface>
      </joint>
      <actuator name="CR_coxa_motor">
        <hardwareInterface>hardware_interface/EffortJointInterface</hardwareInterface>
            <mechanicalReduction>1</mechanicalReduction>
      </actuator>
  </transmission>
    <transmission name="CR_coxat_tran">
    <type>transmission_interface/SimpleTransmission</type>
      <joint name="CR_coxat_joint">
        <hardwareInterface>hardware_interface/EffortJointInterface</hardwareInterface>
      </joint>
      <actuator name="CR_coxat_motor">
        <hardwareInterface>hardware_interface/EffortJointInterface</hardwareInterface>
            <mechanicalReduction>1</mechanicalReduction>
      </actuator>
  </transmission>
  <transmission name="CR_femur_tran">
    <type>transmission_interface/SimpleTransmission</type>
      <joint name="CR_femur_joint">
        <hardwareInterface>hardware_interface/EffortJointInterface</hardwareInterface>
      </joint>
      <actuator name="CR_femur_motor">
        <hardwareInterface>hardware_interface/EffortJointInterface</hardwareInterface>
            <mechanicalReduction>1</mechanicalReduction>
      </actuator>
  </transmission>
  <transmission name="CR_tibia_tran">
    <type>transmission_interface/SimpleTransmission</type>
      <joint name="CR_tibia_joint">
        <hardwareInterface>hardware_interface/EffortJointInterface</hardwareInterface>
      </joint>
      <actuator name="CR_tibia_motor">
        <hardwareInterface>hardware_interface/EffortJointInterface</hardwareInterface>
            <mechanicalReduction>1</mechanicalReduction>
      </actuator>
  </transmission>
  <transmission name="CR_tarsus_tran">
    <type>transmission_interface/SimpleTransmission</type>
      <joint name="CR_tarsus_joint">
        <hardwareInterface>hardware_interface/EffortJointInterface</hardwareInterface>
      </joint>
      <actuator name="CR_tarsus_motor">
        <hardwareInterface>hardware_interface/EffortJointInterface</hardwareInterface>
            <mechanicalReduction>1</mechanicalReduction>
      </actuator>
  </transmission>

  <gazebo reference="base_link">
    <material>Gazebo/Blue</material>
  </gazebo>
  <gazebo reference="AL_coxa">
    <dampingFactor>0.01</dampingFactor>
    <material>Gazebo/Blue</material>
  </gazebo>
  <gazebo reference="AL_coxat">
    <dampingFactor>0.01</dampingFactor>
    <material>Gazebo/Blue</material>
  </gazebo>
  <gazebo reference="AL_femur">
    <dampingFactor>0.01</dampingFactor>
    <material>Gazebo/Blue</material>
  </gazebo>
  <gazebo reference="AL_tibia">
    <dampingFactor>0.01</dampingFactor>
    <material>Gazebo/Blue</material>
  </gazebo>
  <gazebo reference="AL_tarsus">
    <mu1>0.9</mu1>
    <mu2>0.9</mu2>
    <minDepth>0.005</minDepth>
    <dampingFactor>0.01</dampingFactor>
    <material>Gazebo/Blue</material>
  </gazebo>

  <gazebo reference="BL_coxa">
    <dampingFactor>0.01</dampingFactor>
    <material>Gazebo/Blue</material>
  </gazebo>
  <gazebo reference="BL_coxat">
    <dampingFactor>0.01</dampingFactor>
    <material>Gazebo/Blue</material>
  </gazebo>
  <gazebo reference="BL_femur">
    <dampingFactor>0.01</dampingFactor>
    <material>Gazebo/Blue</material>
  </gazebo>
  <gazebo reference="BL_tibia">
    <dampingFactor>0.01</dampingFactor>
    <material>Gazebo/Blue</material>
  </gazebo>
  <gazebo reference="BL_tarsus">
    <mu1>0.9</mu1>
    <mu2>0.9</mu2>
    <minDepth>0.005</minDepth>
    <dampingFactor>0.01</dampingFactor>
    <material>Gazebo/Blue</material>
  </gazebo>

  <gazebo reference="CL_coxa">
    <dampingFactor>0.01</dampingFactor>
    <material>Gazebo/Blue</material>
  </gazebo>
  <gazebo reference="CL_coxat">
    <dampingFactor>0.01</dampingFactor>
    <material>Gazebo/Blue</material>
  </gazebo>
  <gazebo reference="CL_femur">
    <dampingFactor>0.01</dampingFactor>
    <material>Gazebo/Blue</material>
  </gazebo>
  <gazebo reference="CL_tibia">
    <dampingFactor>0.01</dampingFactor>
    <material>Gazebo/Blue</material>
  </gazebo>
  <gazebo reference="CL_tarsus">
    <mu1>0.9</mu1>
    <mu2>0.9</mu2>
    <minDepth>0.005</minDepth>
    <dampingFactor>0.01</dampingFactor>
    <material>Gazebo/Blue</material>
  </gazebo>

  <gazebo reference="AR_coxa">
    <dampingFactor>0.01</dampingFactor>
    <material>Gazebo/Blue</material>
  </gazebo>
  <gazebo reference="AR_coxat">
    <dampingFactor>0.01</dampingFactor>
    <material>Gazebo/Blue</material>
  </gazebo>
  <gazebo reference="AR_femur">
    <dampingFactor>0.01</dampingFactor>
    <material>Gazebo/Blue</material>
  </gazebo>
  <gazebo reference="AR_tibia">
    <dampingFactor>0.01</dampingFactor>
    <material>Gazebo/Blue</material>
  </gazebo>
  <gazebo reference="AR_tarsus">
    <mu1>0.9</mu1>
    <mu2>0.9</mu2>
    <minDepth>0.005</minDepth>
    <dampingFactor>0.01</dampingFactor>
    <material>Gazebo/Blue</material>
  </gazebo>

  <gazebo reference="BR_coxa">
    <dampingFactor>0.01</dampingFactor>
    <material>Gazebo/Blue</material>
  </gazebo>
  <gazebo reference="BR_coxat">
    <dampingFactor>0.01</dampingFactor>
    <material>Gazebo/Blue</material>
  </gazebo>
  <gazebo reference="BR_femur">
    <dampingFactor>0.01</dampingFactor>
    <material>Gazebo/Blue</material>
  </gazebo>
  <gazebo reference="BR_tibia">
    <dampingFactor>0.01</dampingFactor>
    <material>Gazebo/Blue</material>
  </gazebo>
  <gazebo reference="BR_tarsus">
    <mu1>0.9</mu1>
    <mu2>0.9</mu2>
    <minDepth>0.005</minDepth>
    <dampingFactor>0.01</dampingFactor>
    <material>Gazebo/Blue</material>
  </gazebo>

  <gazebo reference="CR_coxa">
    <dampingFactor>0.01</dampingFactor>
    <material>Gazebo/Blue</material>
  </gazebo>
  <gazebo reference="CR_coxat">
    <dampingFactor>0.01</dampingFactor>
    <material>Gazebo/Blue</material>
  </gazebo>
  <gazebo reference="CR_femur">
    <dampingFactor>0.01</dampingFactor>
    <material>Gazebo/Blue</material>
  </gazebo>
  <gazebo reference="CR_tibia">
    <dampingFactor>0.01</dampingFactor>
    <material>Gazebo/Blue</material>
  </gazebo>
  <gazebo reference="CR_tarsus">
    <mu1>0.9</mu1>
    <mu2>0.9</mu2>
    <minDepth>0.005</minDepth>
    <dampingFactor>0.01</dampingFactor>
    <material>Gazebo/Blue</material>
  </gazebo>


<link name="imu_link">
  <inertial>
    <mass value="0.001"/>
    <origin rpy="0 0 3.14159265359" xyz="0 0 0"/>
    <inertia ixx="0.0001" ixy="0" ixz="0" iyy="0.000001" iyz="0" izz="0.0001"/>
  </inertial>
  <visual>
    <origin rpy="0 0 0" xyz="0 0 0"/>
    <geometry>
      <box size="0.02 0.01 0.01"/>
    </geometry>
  </visual>
  <collision>
    <origin rpy="0 0 0" xyz="0 0 0"/>
    <geometry>
      <box size="0.02 0.01 0.01"/>
    </geometry>
  </collision>
</link>

  <joint name="imu_joint" type="fixed">
    <axis xyz="1 0 0"/> 
    <origin xyz="0 0 0"/>
    <parent link="base_link"/>
    <child link="imu_link"/>
  </joint>

<gazebo>
  <plugin name="imu_plugin" filename="libgazebo_ros_imu.so">
    <alwaysOn>true</alwaysOn>       
    <bodyName>imu_link</bodyName>
    <topicName>imu/data</topicName>
    <serviceName>imu_service</serviceName>
    <gaussianNoise>0.0</gaussianNoise>
    <updateRate>0.0</updateRate> 
  </plugin>
</gazebo>



</robot>
